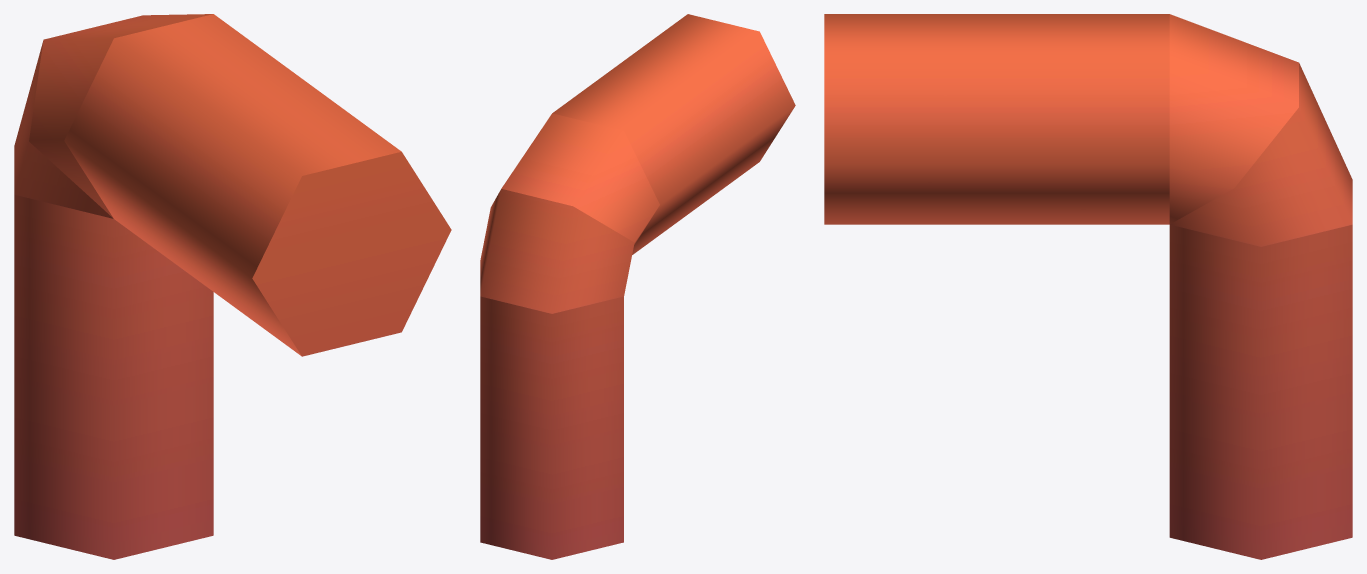
Rendered from pipe-corner.glb.
3 renders of one model, left to right at view 1: azimuth 30°, elevation 25°; view 2: azimuth 150°, elevation 25°; view 3: azimuth 270°, elevation 25°, orthographic. The views are drawn at different scales.
Parts seen in each view (by area): view 1: pipe-corner; view 2: pipe-corner; view 3: pipe-corner.
Boxes of the visible parts, left/top/right/bottom form: pipe-corner: left=14, top=14, right=451, bottom=559; pipe-corner: left=480, top=14, right=795, bottom=559; pipe-corner: left=824, top=14, right=1352, bottom=559.
Bounding box in the file's own units: 0.2 × 0.5 × 0.5.
1 material, 1 textured.
